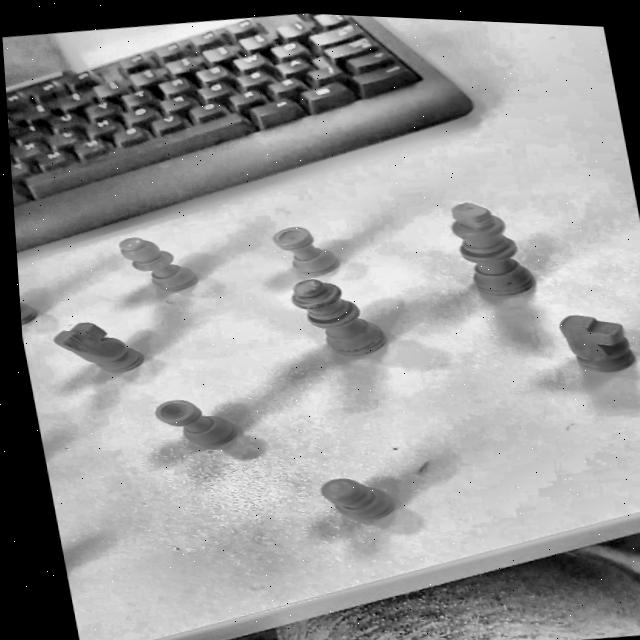white-bishop: (103, 225, 209, 311), (17, 260, 48, 324)
white-king: (404, 171, 563, 314)
white-knight: (33, 307, 151, 385), (549, 303, 640, 386)
white-pawn: (282, 463, 406, 549)
white-queen: (271, 271, 392, 373)
white-rook: (128, 381, 262, 469), (266, 212, 345, 284)
